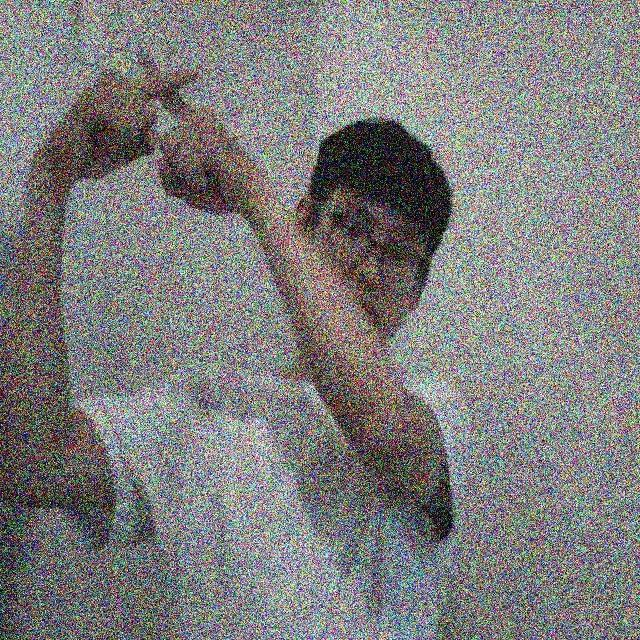X: (92, 39, 230, 176)
